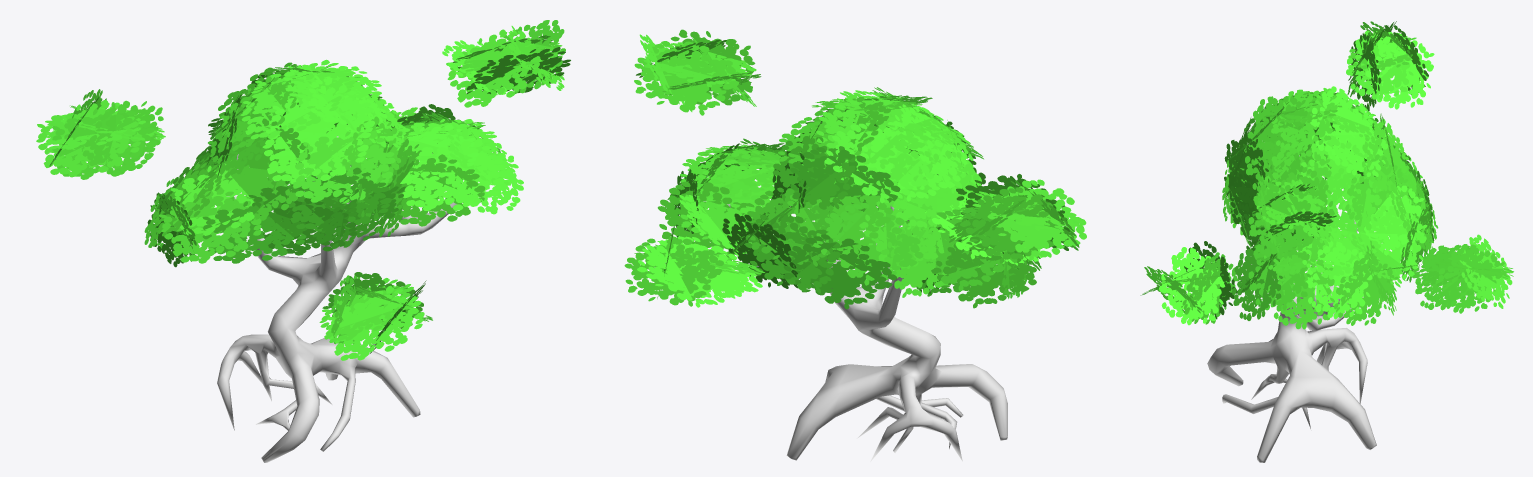
Rendered from TreeA 2 LOD0.fbx.
3 renders of one model, left to right at view 1: azimuth 30°, elevation 25°; view 2: azimuth 150°, elevation 25°; view 3: azimuth 270°, elevation 25°, orthographic. The views are drawn at different scales.
Parts seen in each view (by area): view 1: TreeA 2 LOD 0; view 2: TreeA 2 LOD 0; view 3: TreeA 2 LOD 0.
Part boxes in pixels (x1,y1,x2,y2): TreeA 2 LOD 0: [36, 20, 570, 462]; TreeA 2 LOD 0: [624, 29, 1086, 461]; TreeA 2 LOD 0: [1140, 21, 1513, 462].
Bounding box in the file's own units: 6.67 × 6.5 × 9.55.
